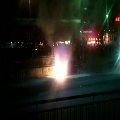fire: (50, 55, 67, 81)
